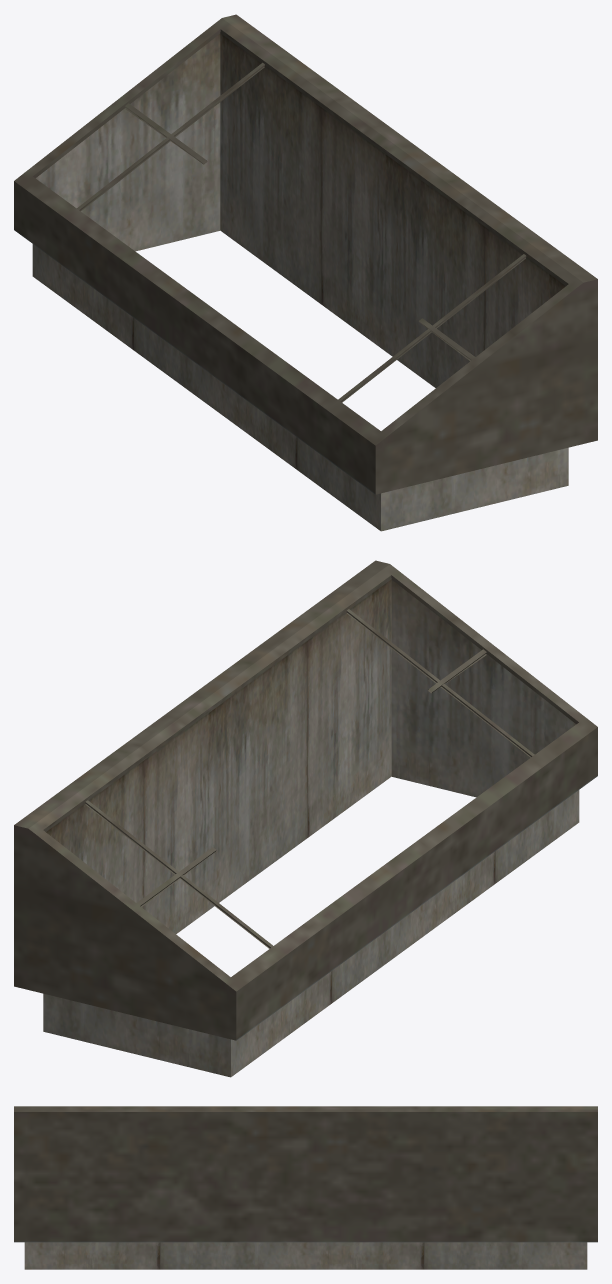
The model's file is RE_Sky.glb.
3 views of the same model, one above another, from view 1: azimuth 30°, elevation 25°; view 2: azimuth 150°, elevation 25°; view 3: azimuth 270°, elevation 25° (orthographic). The views are drawn at different scales.
Visible parts, largest first — view 1: _RE_Sky; view 2: _RE_Sky; view 3: _RE_Sky.
Boxes of the visible parts, x1,y1,x2,y2 form: _RE_Sky: [14, 14, 597, 531]; _RE_Sky: [14, 560, 597, 1077]; _RE_Sky: [14, 1106, 597, 1269].
Bounding box in the file's own units: 3.14 × 2.78 × 8.85.
2 materials, 2 textured.
